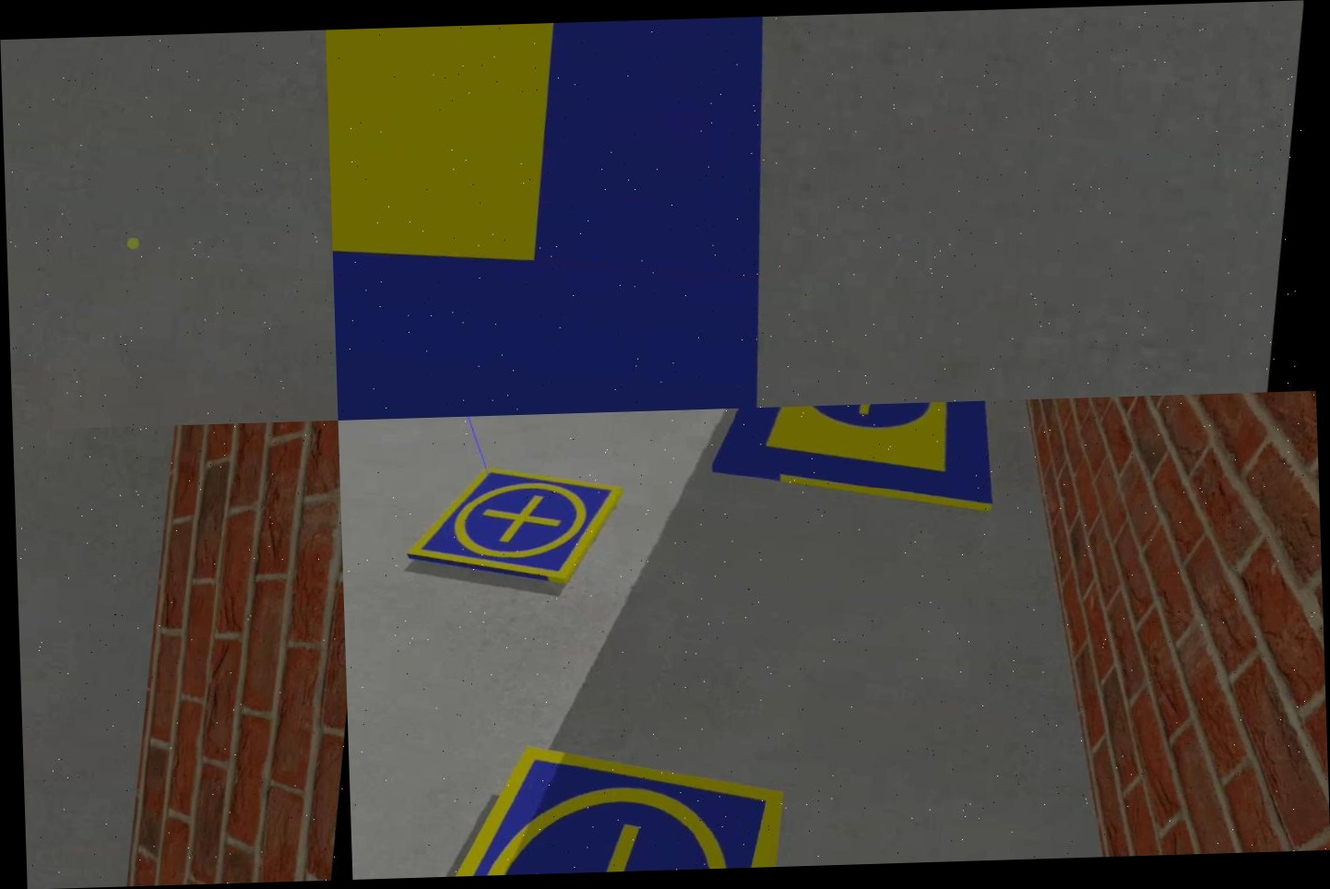large_base: (326, 14, 859, 421), (706, 400, 1012, 518)
small_base: (401, 725, 793, 877), (404, 448, 625, 598)
